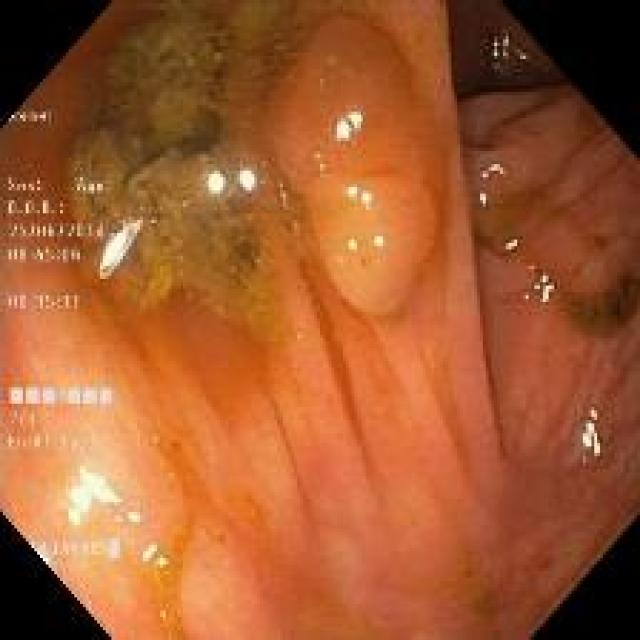Polyps: (270, 16, 448, 320)
